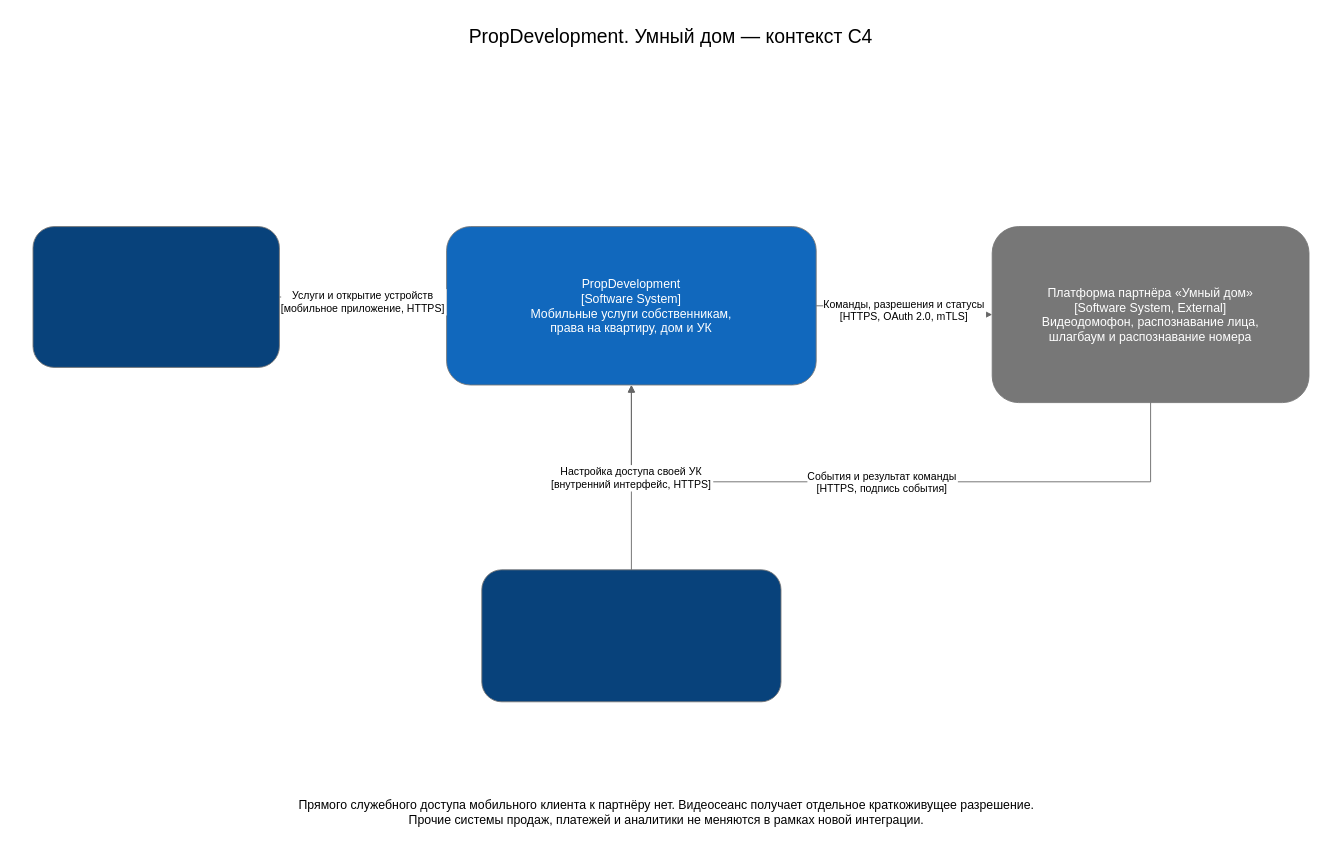
Image size: 1341x866. Some labels were removed from this diagram. Each missing label, with the centre of its shape:
"Собственник / жилец [Person] Пользуется услугами и управляет доступом" belongs at [155,296].
"Сотрудник УК [Person] Управляет устройствами своего дома" belongs at [631,635].
